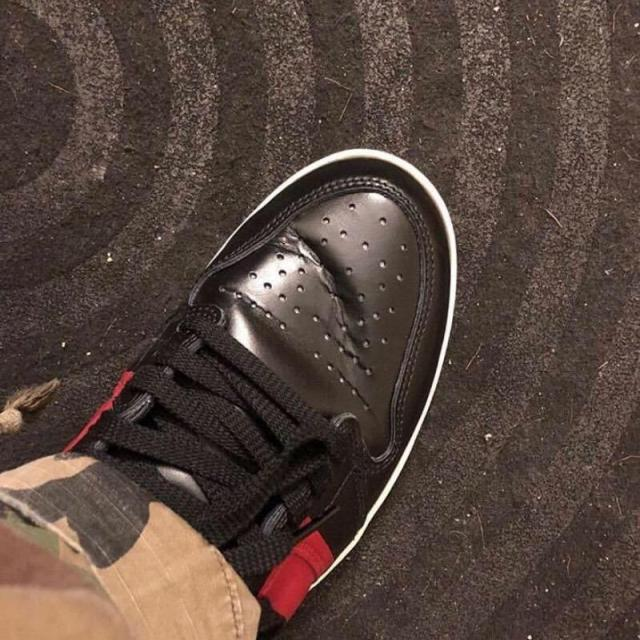shoe: (70, 115, 470, 640)
